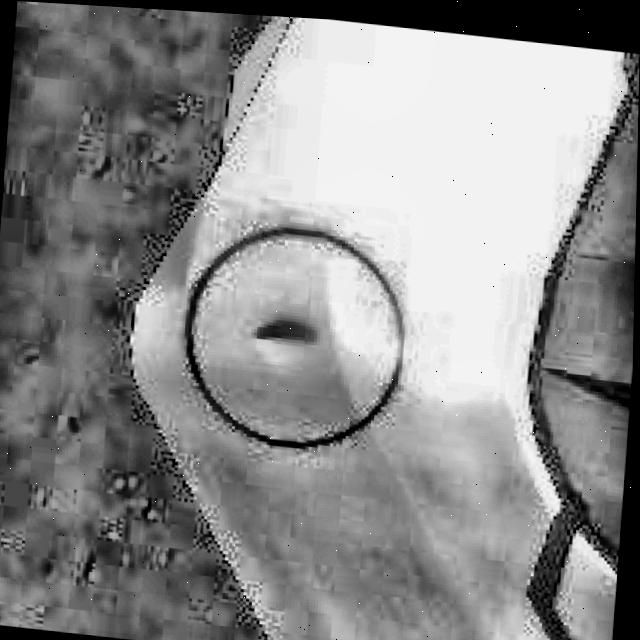bumper_dent: (243, 304, 314, 377)
